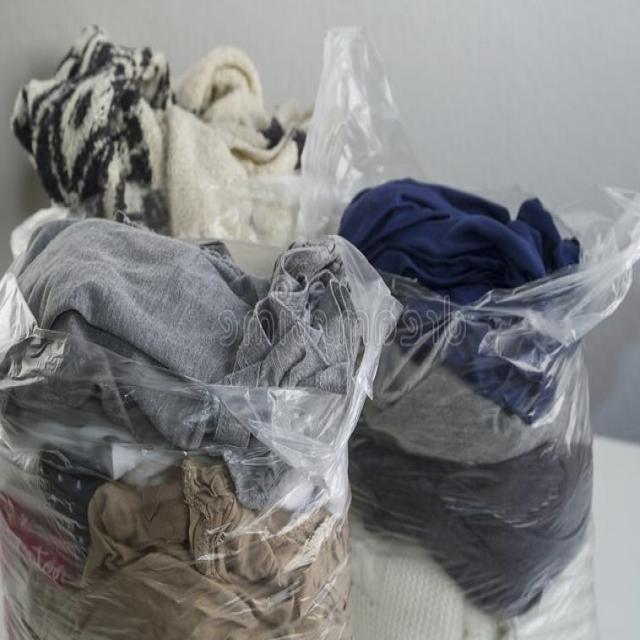clothes: (51, 95, 276, 212)
